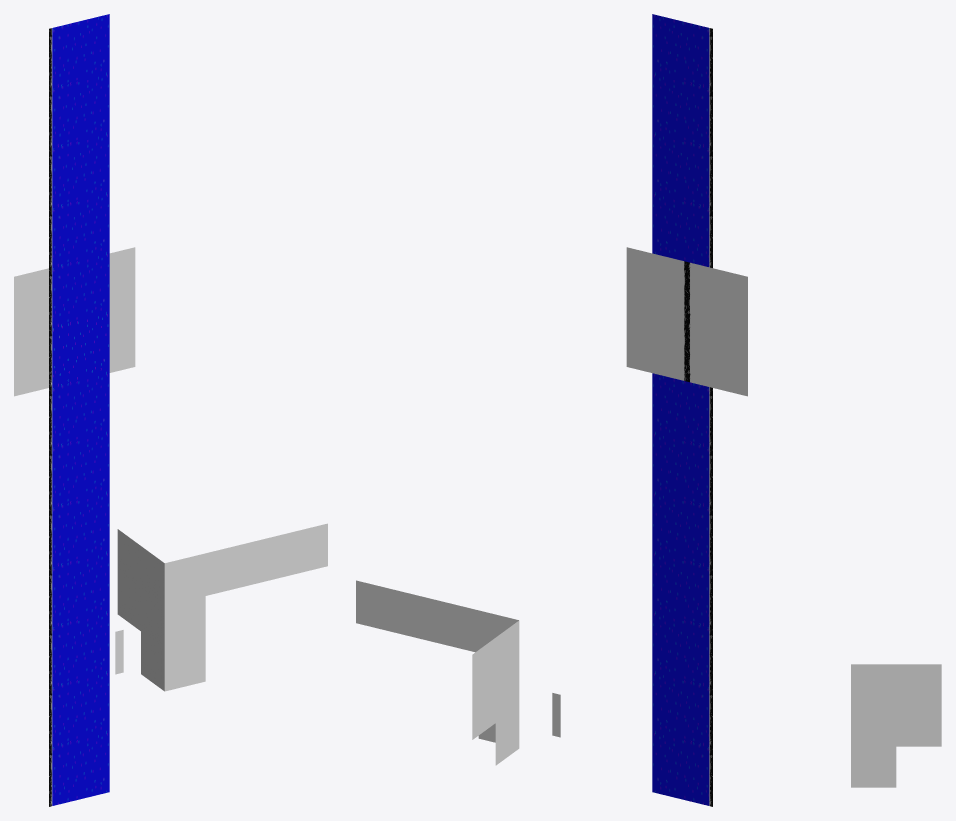
File: WATERFALL.fbx
The picture shows the model from 3 angles, left to right: view 1: azimuth 30°, elevation 25°; view 2: azimuth 150°, elevation 25°; view 3: azimuth 270°, elevation 25°; orthographic projection. The views are drawn at different scales.
Visible parts, largest first — view 1: Waterfall (×12), waterfallMisGradient (×4), WaterfallClipRight (×2), Waterfall_SolidPlane (×5), WaterfallClipEdgeRight (×2), WaterfallClipEdgeLeft (×2); view 2: Waterfall (×11), waterfallMisGradient (×4), WaterfallClipEdgeRight (×2), WaterfallClipEdgeLeft (×2), Waterfall_SolidPlane (×3); view 3: Waterfall_SolidPlane (×3), waterfallMisGradient (×2).
Boxes of the visible parts, box(x1,y1,x2,y2) form: Waterfall (×12): box(49, 14, 109, 806); waterfallMisGradient (×4): box(117, 523, 327, 605); WaterfallClipRight (×2): box(49, 253, 109, 387); Waterfall_SolidPlane (×5): box(117, 572, 205, 691); WaterfallClipEdgeRight (×2): box(14, 268, 48, 396); WaterfallClipEdgeLeft (×2): box(109, 247, 135, 372); Waterfall (×11): box(652, 14, 712, 806); waterfallMisGradient (×4): box(356, 580, 519, 696); WaterfallClipEdgeRight (×2): box(687, 262, 747, 396); WaterfallClipEdgeLeft (×2): box(626, 247, 686, 381); Waterfall_SolidPlane (×3): box(472, 663, 519, 765); Waterfall_SolidPlane (×3): box(851, 705, 941, 787); waterfallMisGradient (×2): box(851, 664, 941, 705).
Bounding box in the file's own units: 86.35 × 182 × 36.5.
8 materials, 8 textured.
